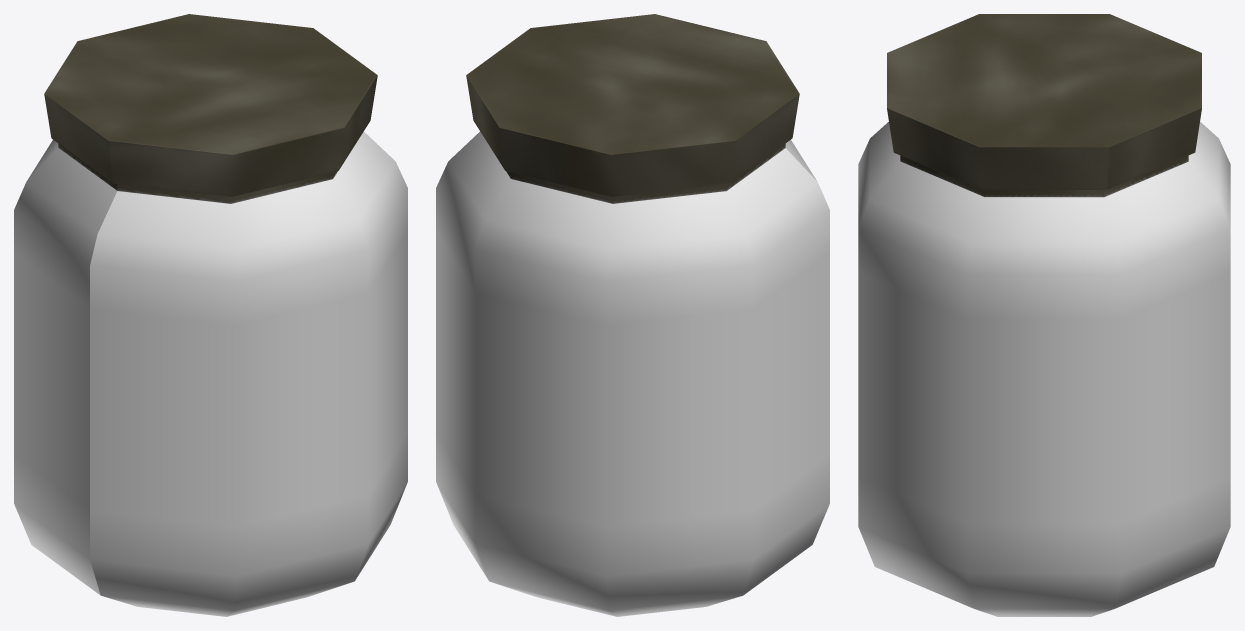
File: WaterJar.fbx
The picture shows the model from 3 angles, left to right: view 1: azimuth 30°, elevation 25°; view 2: azimuth 150°, elevation 25°; view 3: azimuth 270°, elevation 25°; orthographic projection.
Parts seen in each view (by area): view 1: WaterJarGlass, WaterJar; view 2: WaterJarGlass, WaterJar; view 3: WaterJarGlass, WaterJar.
Boxes of the visible parts, left/top/right/bottom form: WaterJarGlass: left=14, top=131, right=407, bottom=616; WaterJar: left=44, top=14, right=377, bottom=203; WaterJarGlass: left=436, top=131, right=829, bottom=616; WaterJar: left=466, top=14, right=799, bottom=203; WaterJarGlass: left=858, top=122, right=1230, bottom=616; WaterJar: left=887, top=14, right=1201, bottom=196.
Size of the model in its own units: 231 by 335 by 231.
